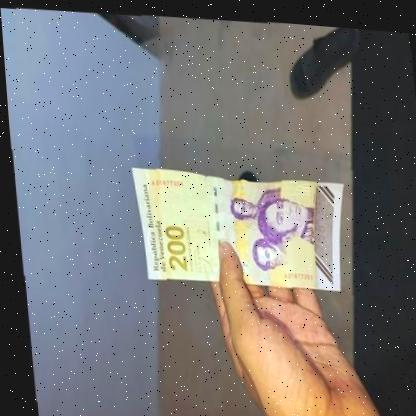vef_front: (127, 159, 347, 290)
